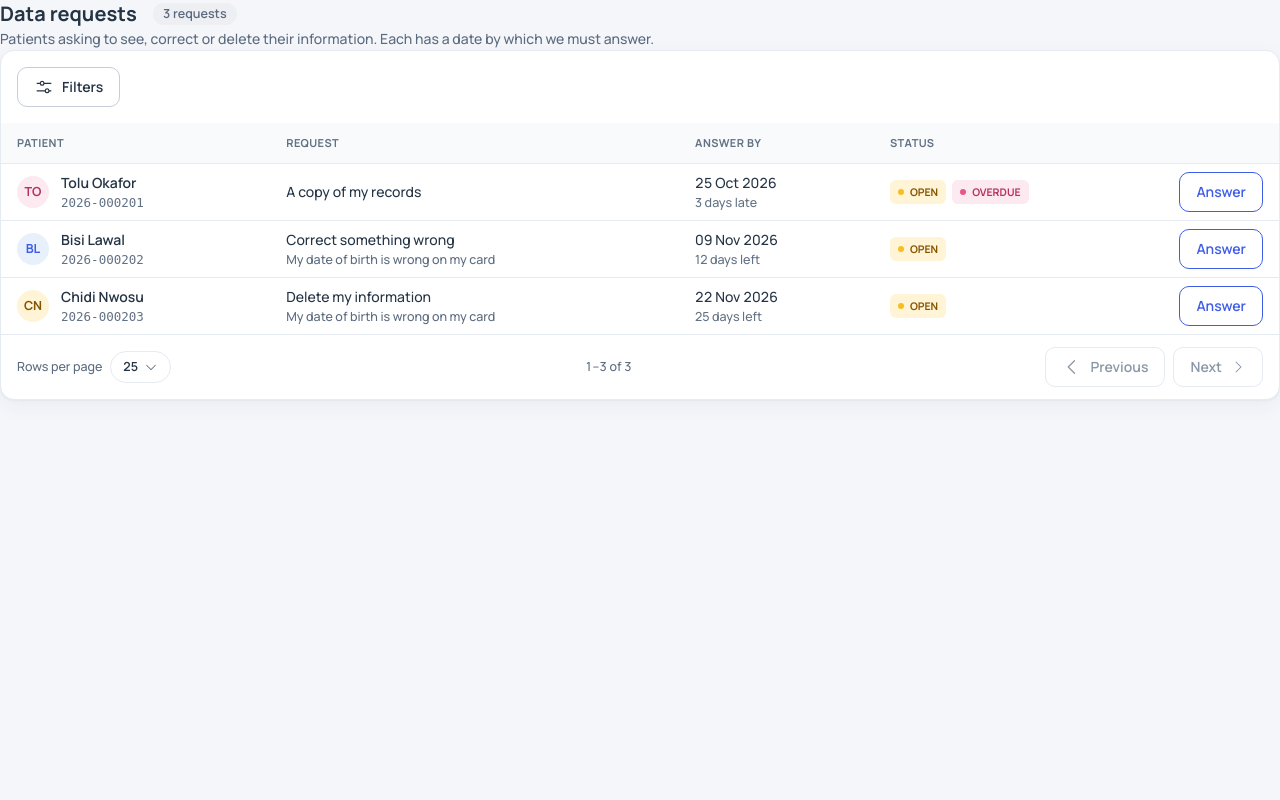
Test: data requests › answers a request with a written reason, then it leaves the open list
Click the button with aria-label "Answer the request from Bisi Lawal" at (1221, 249), box left=1179, top=229, right=1263, bottom=269
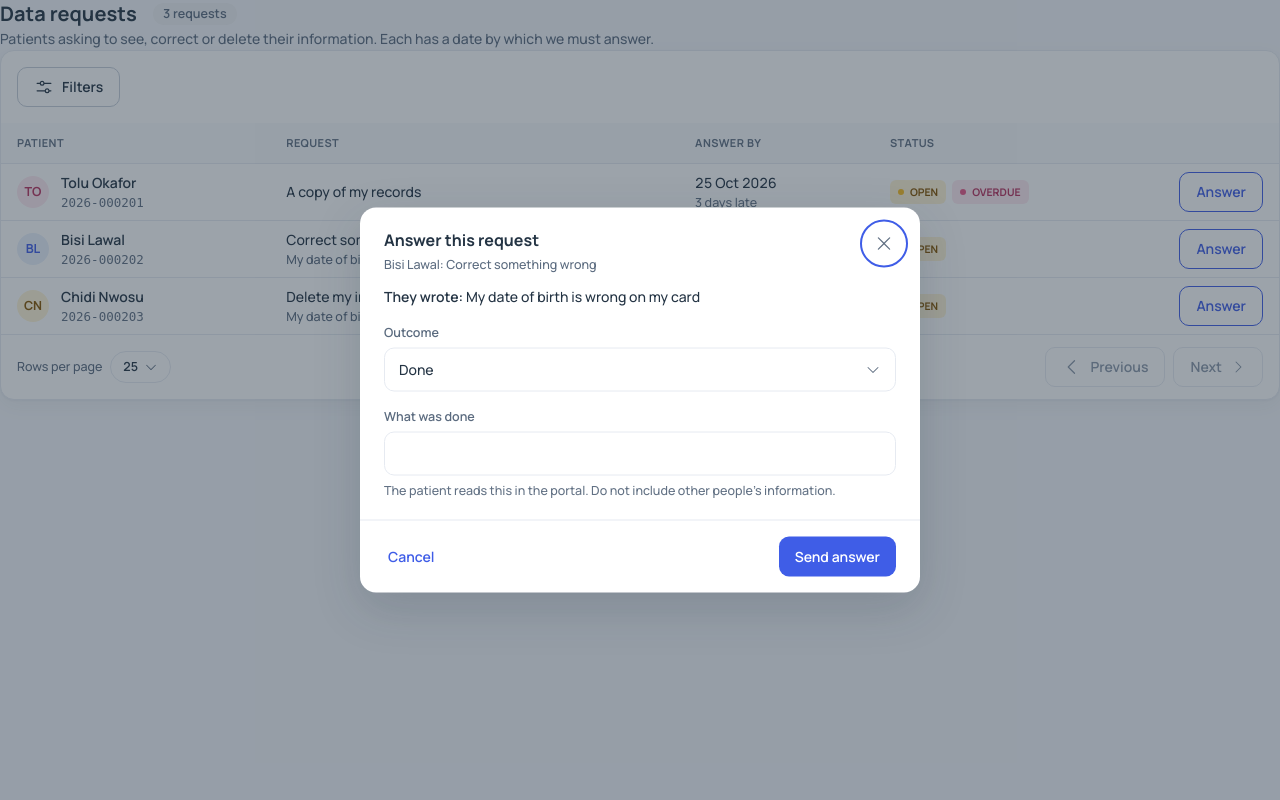
Check: the dialog "Answer this request" shows "My date of birth is wrong on my card", box left=466, top=286, right=700, bottom=306
Click the button "Send answer" at (837, 556), box left=779, top=536, right=896, bottom=576
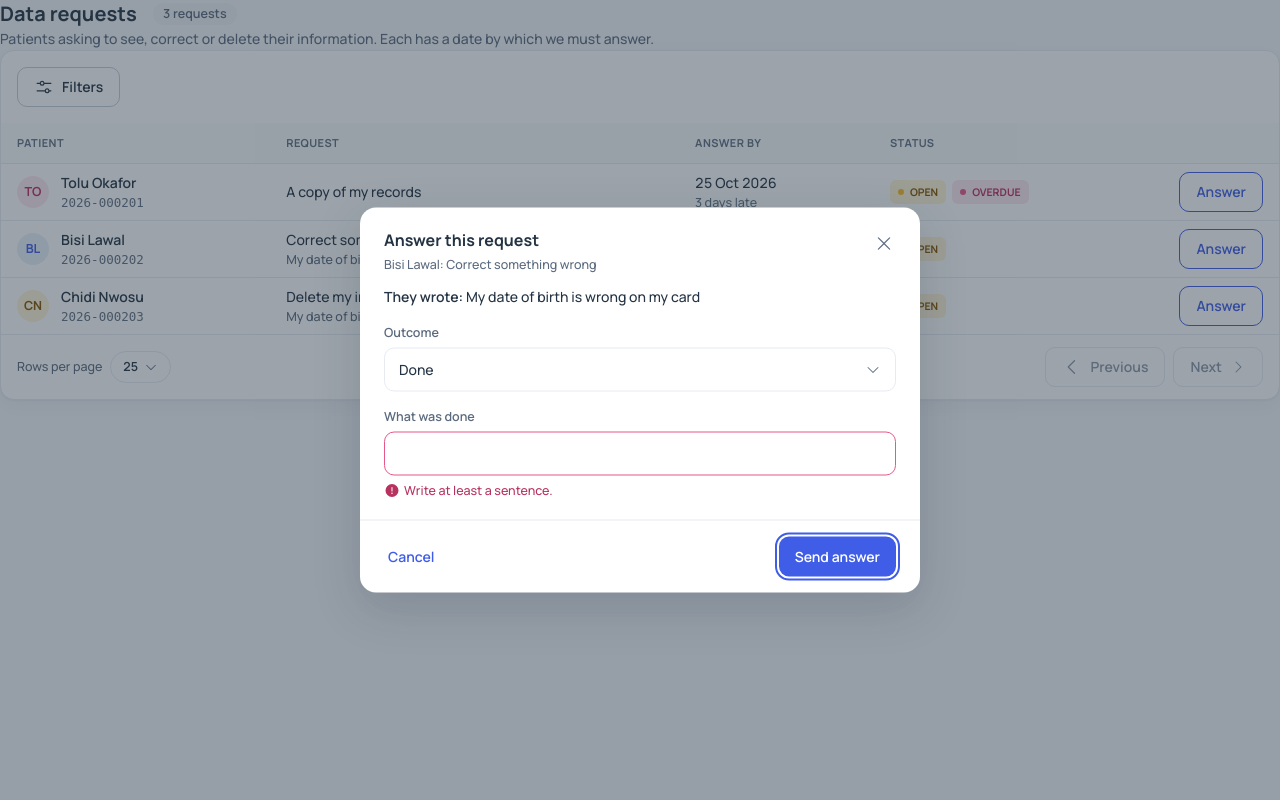
Check: the text "Write at least a sentence." is shown, box left=384, top=482, right=552, bottom=500
Type "Corrected the date of birth on the record." into the field labelled "What was done" at (640, 454), box left=384, top=432, right=896, bottom=476
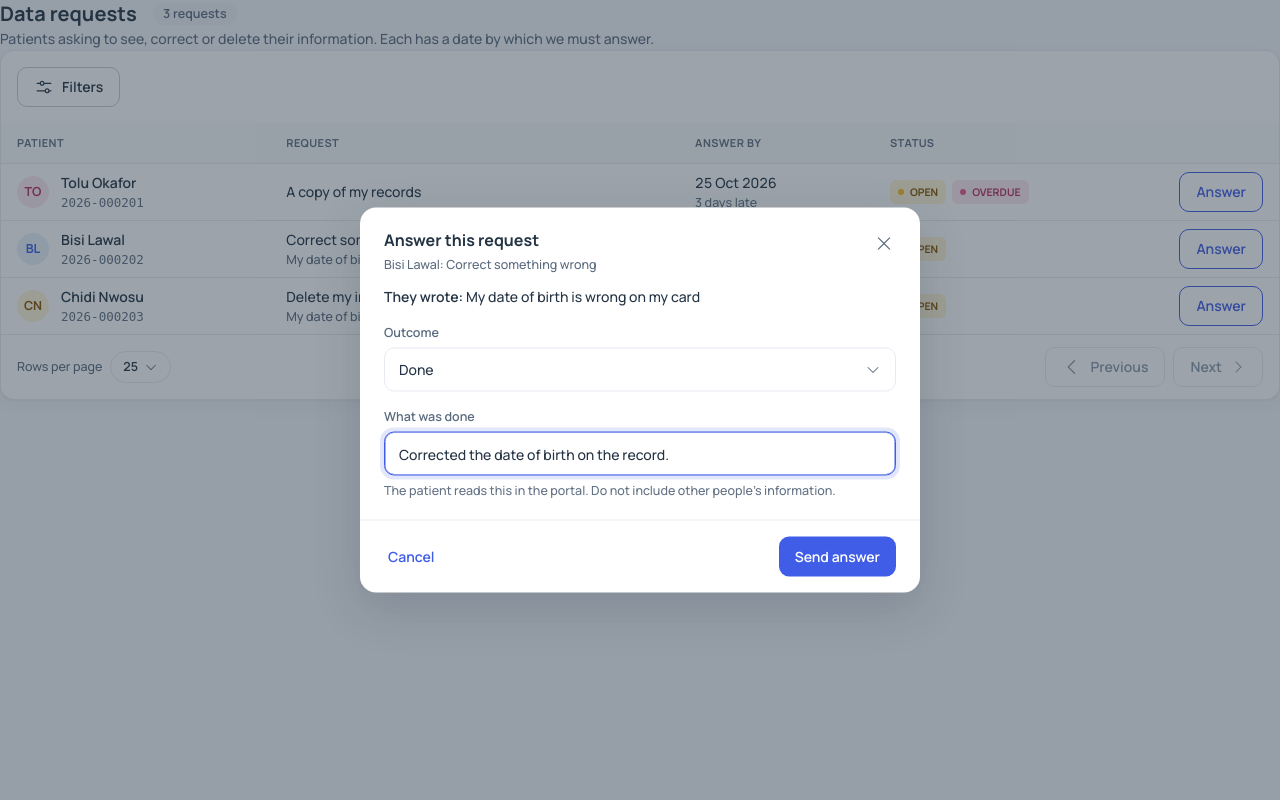
Click the button "Send answer" at (837, 556), box left=779, top=536, right=896, bottom=576
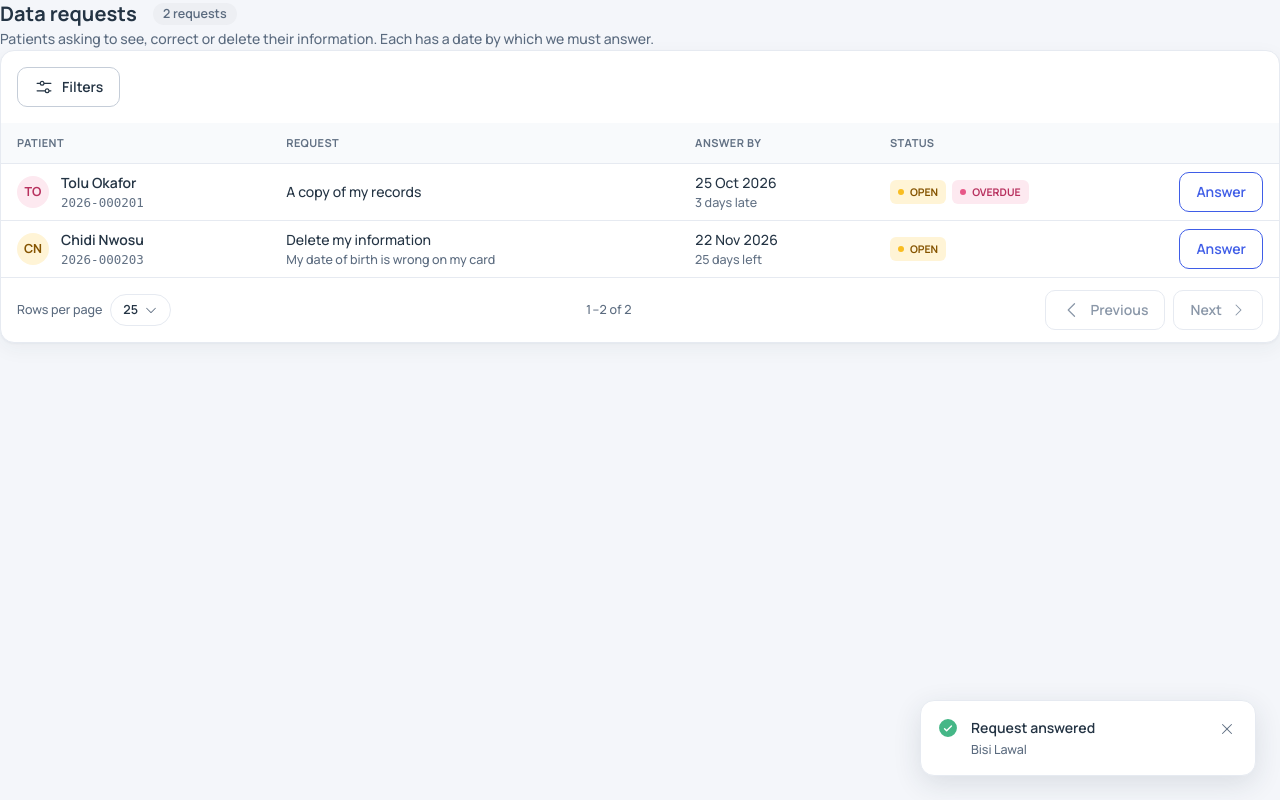
Check: the text "Request answered" is shown, box left=971, top=718, right=1095, bottom=737
